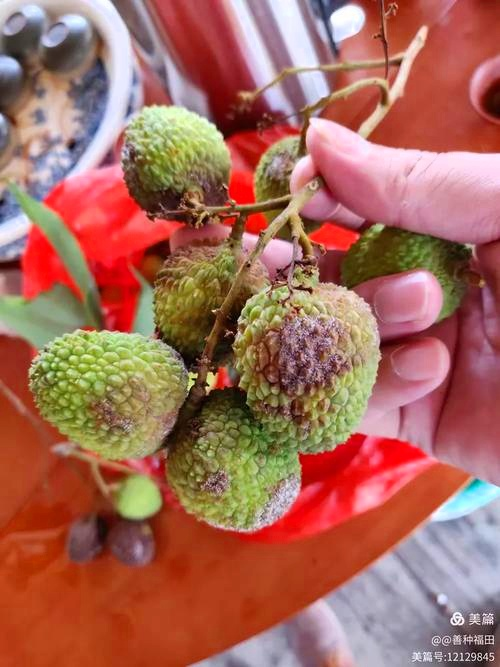Frost_Blight: (248, 305, 363, 453), (209, 437, 317, 576), (82, 356, 168, 447)
